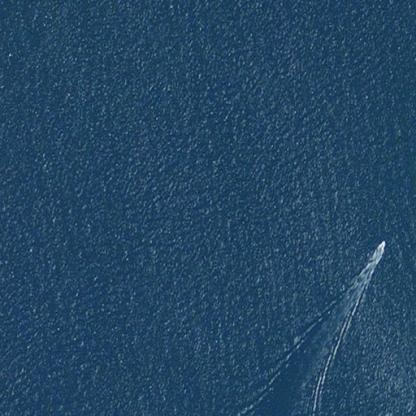ship: (364, 236, 388, 266)
